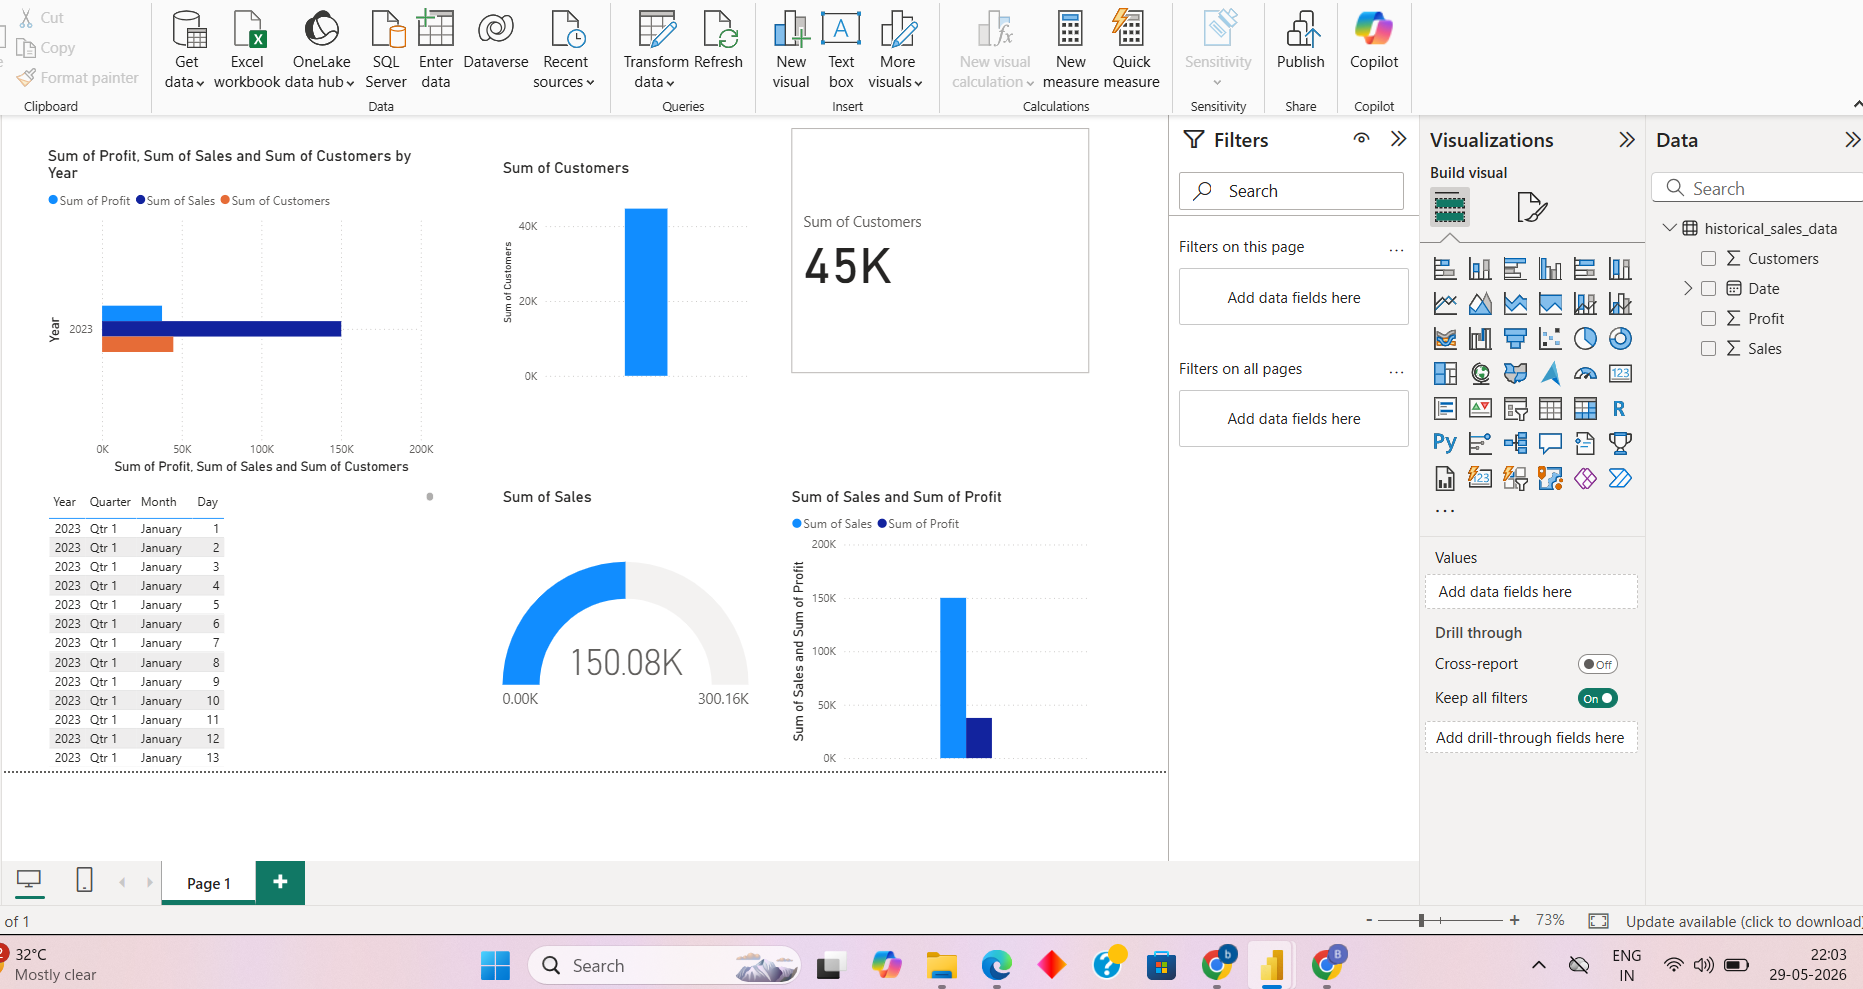

Layout of this report page (visuals, bound fields, positions):
{"tool":"powerbi","page":{"name":"Page 1","canvas":[1280,720],"ordinal":0},"visuals":[{"type":"cardVisual","fields":{"Data":["Sum(historical_sales_data.Customers)"]},"box":[861.8,9.6,337.6,279.9],"z":0},{"type":"clusteredBarChart","fields":{"Y":["Sum(historical_sales_data.Profit)","Sum(historical_sales_data.Sales)","Sum(historical_sales_data.Customers)"],"Category":["historical_sales_data.Date.Variation.Date Hierarchy.Year","historical_sales_data.Date.Variation.Date Hierarchy.Quarter","historical_sales_data.Date.Variation.Date Hierarchy.Month","historical_sales_data.Date.Variation.Date Hierarchy.Day"]},"box":[45.3,34.3,433.6,365],"z":1},{"type":"clusteredColumnChart","fields":{"Y":["Sum(historical_sales_data.Customers)"]},"box":[544.8,48,279.9,252.5],"z":2},{"type":"tableEx","fields":{"Values":["historical_sales_data.Date.Variation.Date Hierarchy.Year","historical_sales_data.Date.Variation.Date Hierarchy.Quarter","historical_sales_data.Date.Variation.Date Hierarchy.Month","historical_sales_data.Date.Variation.Date Hierarchy.Day"]},"box":[45,409,434,311],"z":3},{"type":"gauge","fields":{"Y":["Sum(historical_sales_data.Sales)"]},"box":[545,409,280,311],"z":4},{"type":"clusteredColumnChart","fields":{"Y":["Sum(historical_sales_data.Sales)","Sum(historical_sales_data.Profit)"]},"box":[862,409,338,311],"z":5}]}

Visuals, with their boxes on the page's 1280x720 design canvas (x1, y1, x2, y2). These are canvas units, not pixel positions in the 1863x989 screenshot, which may show the page scaled, cropped or inside an application window:
cardVisual - Sum(historical_sales_data.Customers): x1=862, y1=10, x2=1199, y2=290
clusteredBarChart - Sum(historical_sales_data.Profit) x Sum(historical_sales_data.Sales): x1=45, y1=34, x2=479, y2=399
clusteredColumnChart - Sum(historical_sales_data.Customers): x1=545, y1=48, x2=825, y2=300
tableEx - historical_sales_data.Date.Variation.Date Hierarchy.Year x historical_sales_data.Date.Variation.Date Hierarchy.Quarter: x1=45, y1=409, x2=479, y2=720
gauge - Sum(historical_sales_data.Sales): x1=545, y1=409, x2=825, y2=720
clusteredColumnChart - Sum(historical_sales_data.Sales) x Sum(historical_sales_data.Profit): x1=862, y1=409, x2=1200, y2=720
